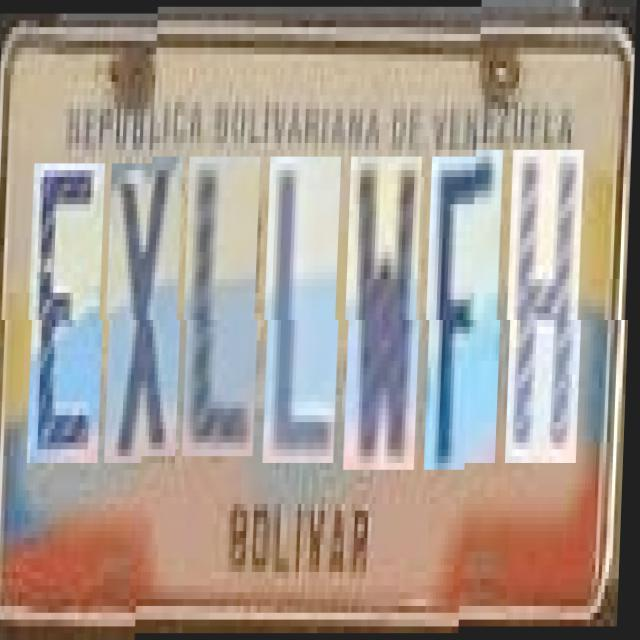E: (30, 156, 110, 456)
F: (428, 156, 508, 470)
H: (508, 156, 588, 470)
L: (266, 156, 346, 464), (186, 156, 264, 456)
W: (347, 156, 427, 470)
X: (108, 156, 187, 456)
